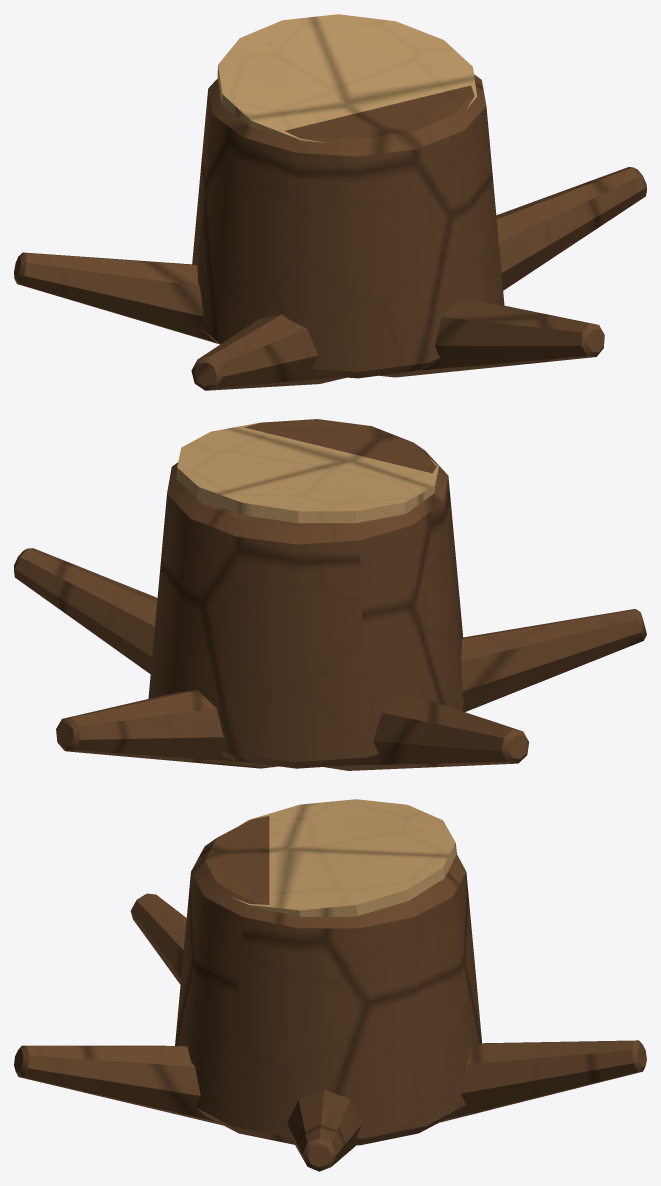
The model's file is tree_trunk.glb.
3 views of the same model, one above another, from view 1: azimuth 30°, elevation 25°; view 2: azimuth 150°, elevation 25°; view 3: azimuth 270°, elevation 25° (orthographic). The views are drawn at different scales.
Visible parts, largest first — view 1: tree_trunk; view 2: tree_trunk; view 3: tree_trunk.
Part boxes in pixels (x1,y1,x2,y2): tree_trunk: [14, 14, 646, 390]; tree_trunk: [14, 419, 646, 770]; tree_trunk: [14, 799, 646, 1171].
Bounding box in the file's own units: 1.54 × 0.7601 × 1.53.
Materials: 2 (2 with a texture image).
